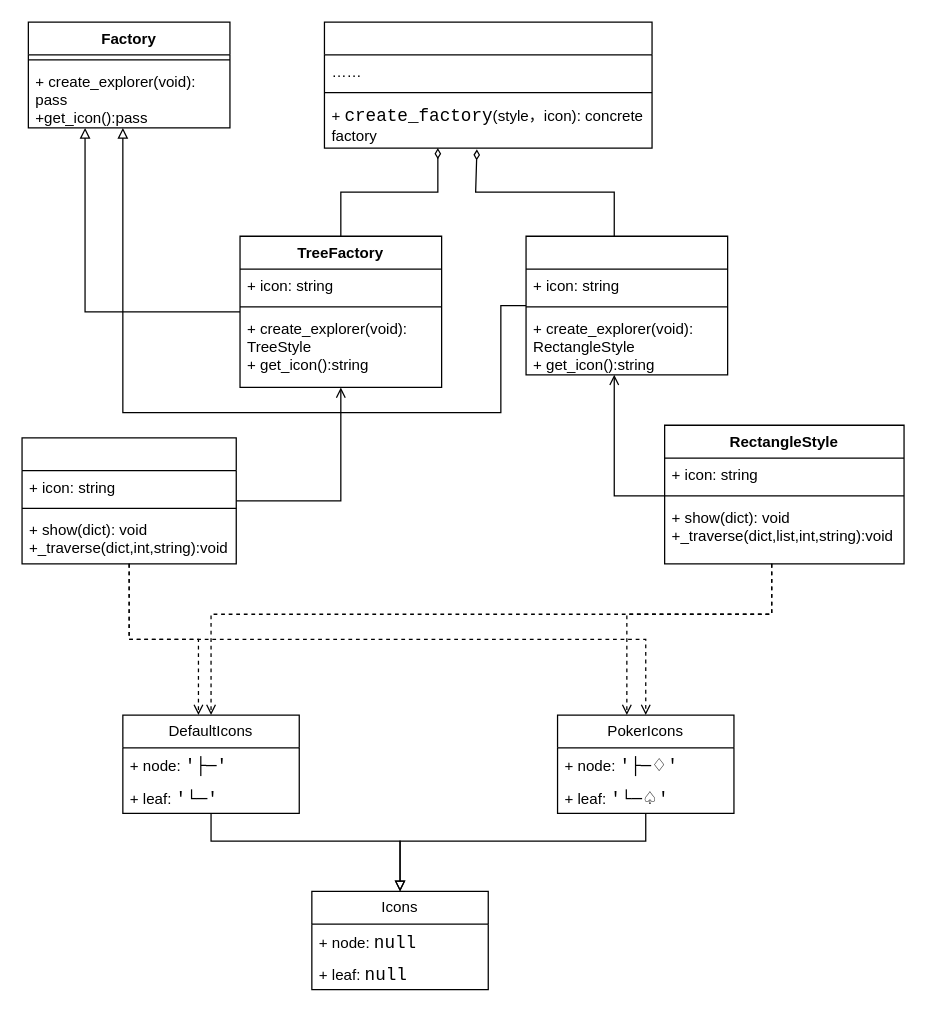
Image size: 926x1016. Some labels were removed from this diagram. The shapes that lost their labels are listed below. From the top down, each one's box as (x1, y1, x2, y2) in pixels, then its label:
(323, 21, 652, 148): TotalFactory
(525, 235, 728, 375): RectangleFactory
(21, 437, 236, 564): TreeStyle
